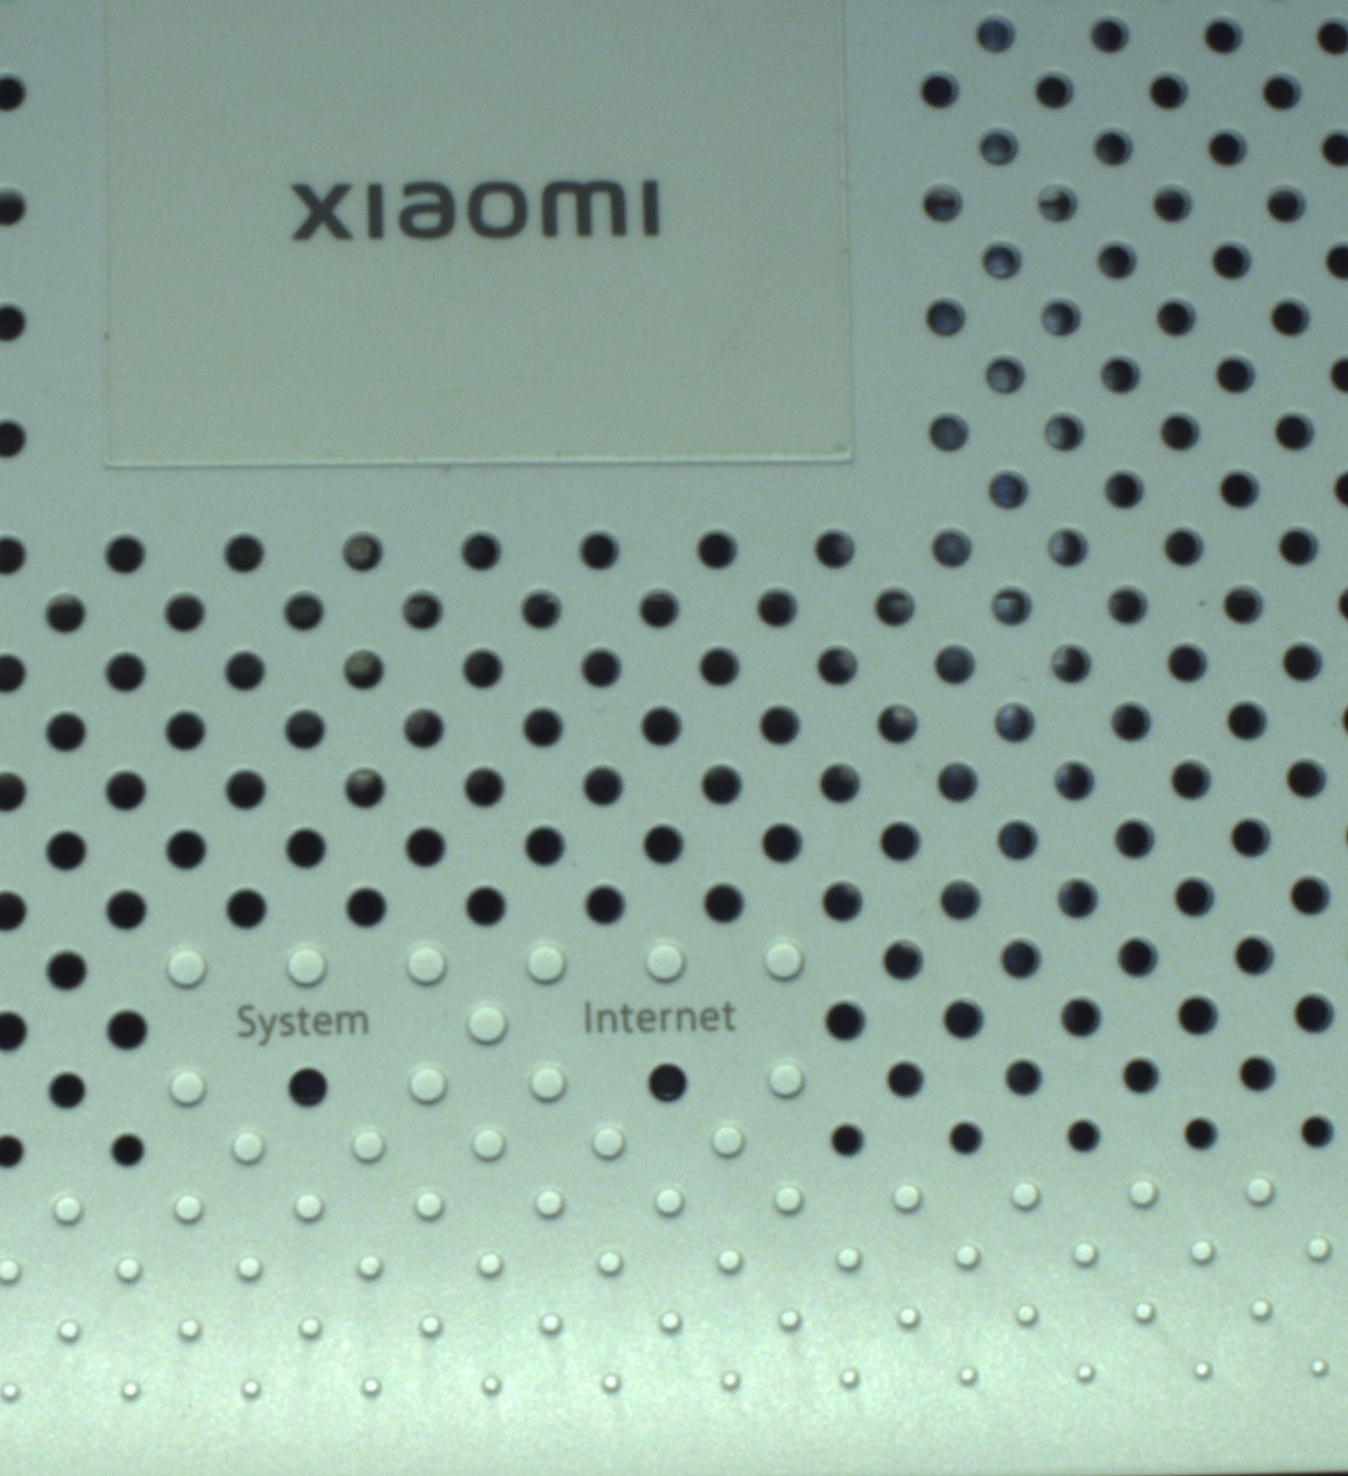MAB_OldUnicom: (268, 163, 673, 258)
